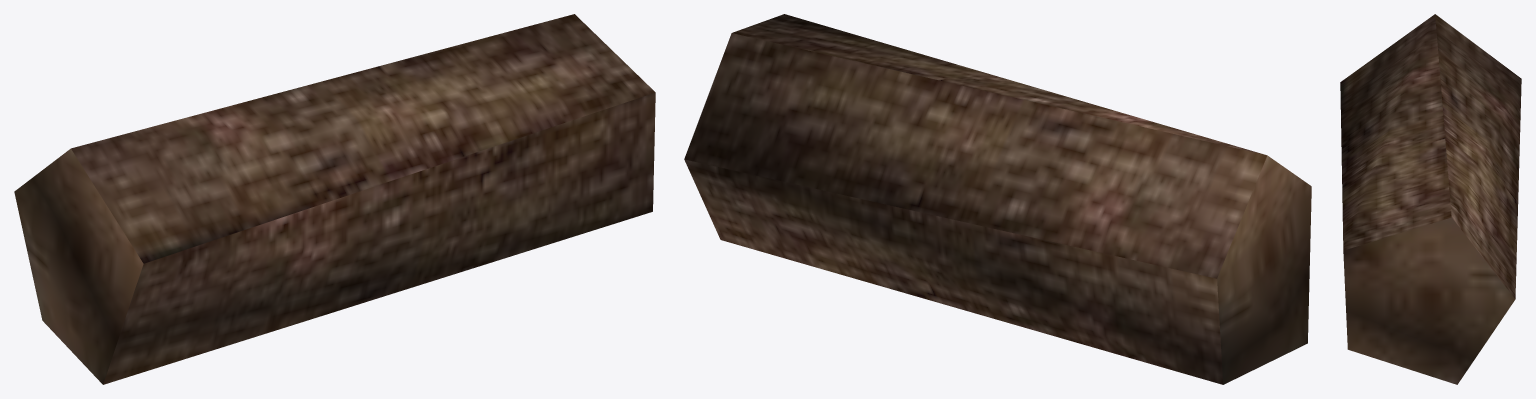
File: NC_LOB_LOG3.glb
3 renders of one model, left to right at view 1: azimuth 30°, elevation 25°; view 2: azimuth 150°, elevation 25°; view 3: azimuth 270°, elevation 25°, orthographic. The views are drawn at different scales.
Parts seen in each view (by area): view 1: Mesh; view 2: Mesh; view 3: Mesh.
Boxes of the visible parts, x1,y1,x2,y2 form: Mesh: (14,14,655,384); Mesh: (684,14,1311,384); Mesh: (1340,14,1521,384).
Size of the model in its own units: 1.44 by 0.5438 by 0.5186.
Materials: 2 (2 with a texture image).
